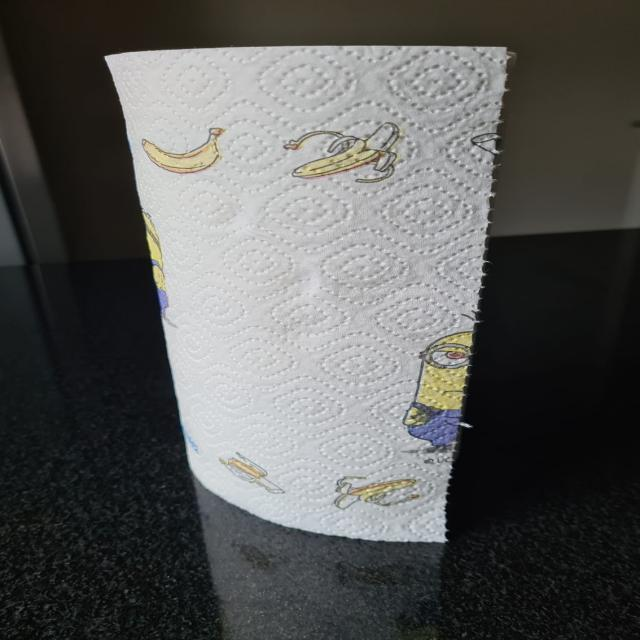kitchen paper: (101, 43, 514, 543)
